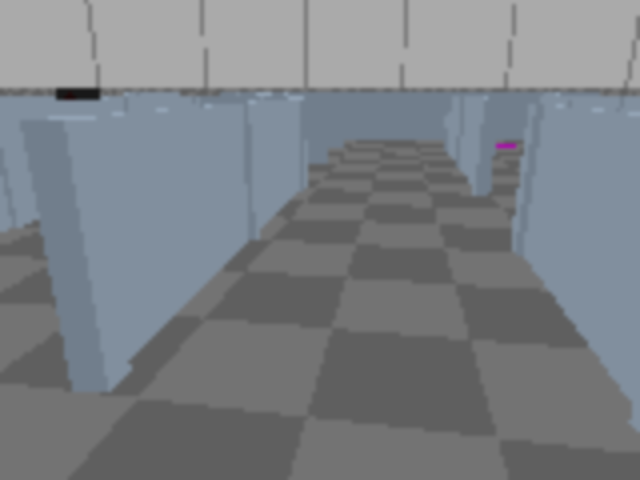goal_zone: (473, 143, 520, 149)
